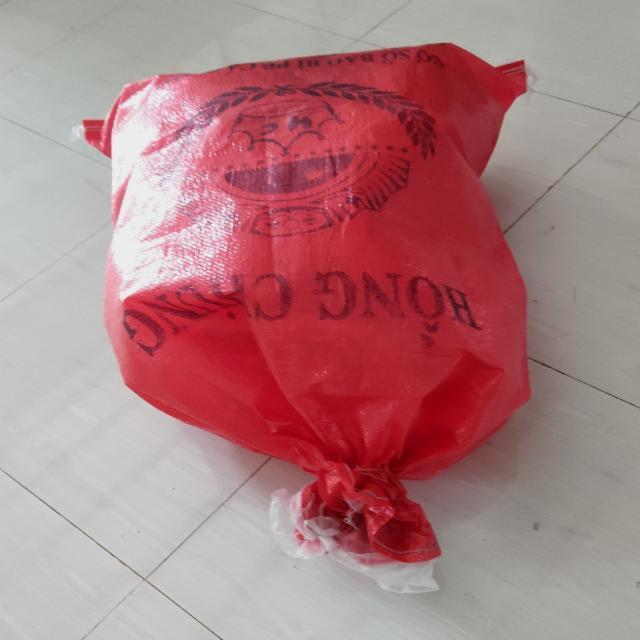gunny_bag: (82, 44, 531, 594)
